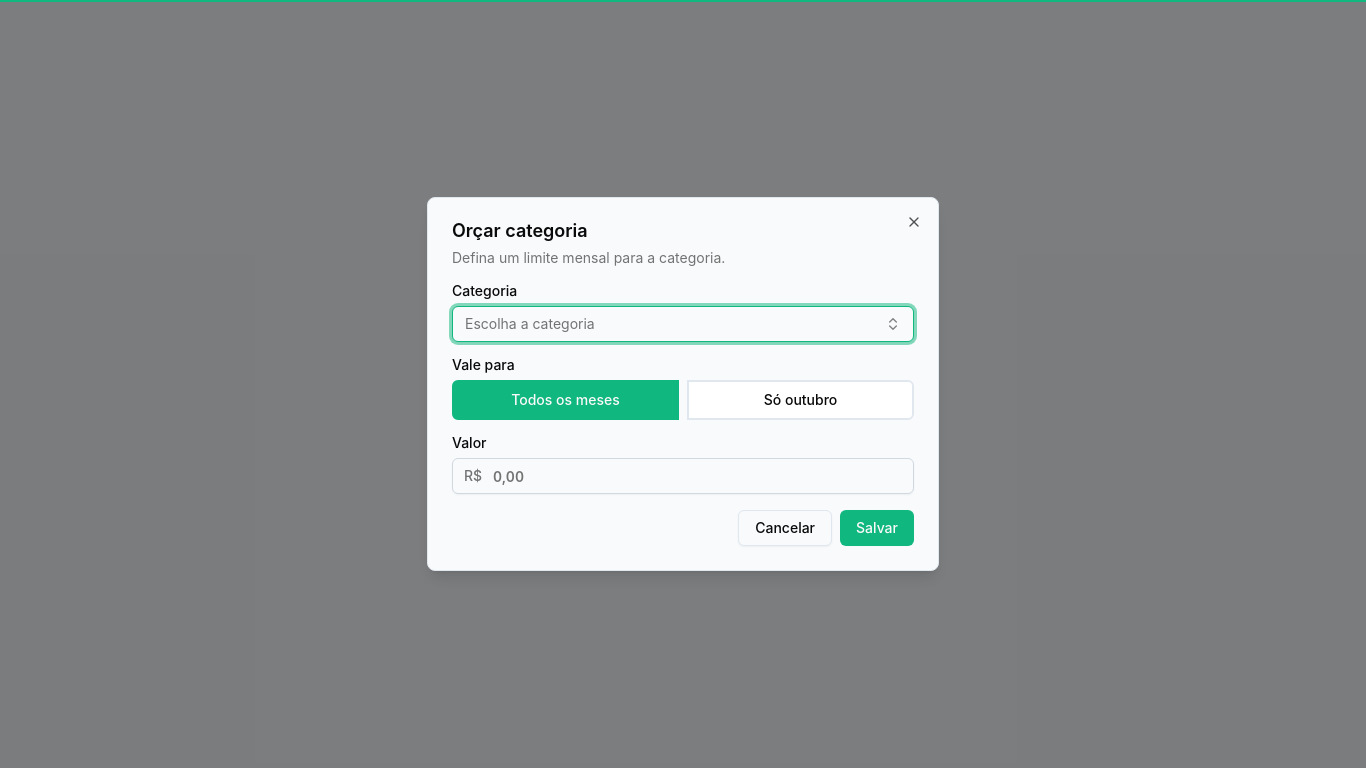
BudgetFormDialog › exige a categoria ao orçar uma categoria nova
Click the button "Salvar": x=877, y=528 [840,510,914,546]
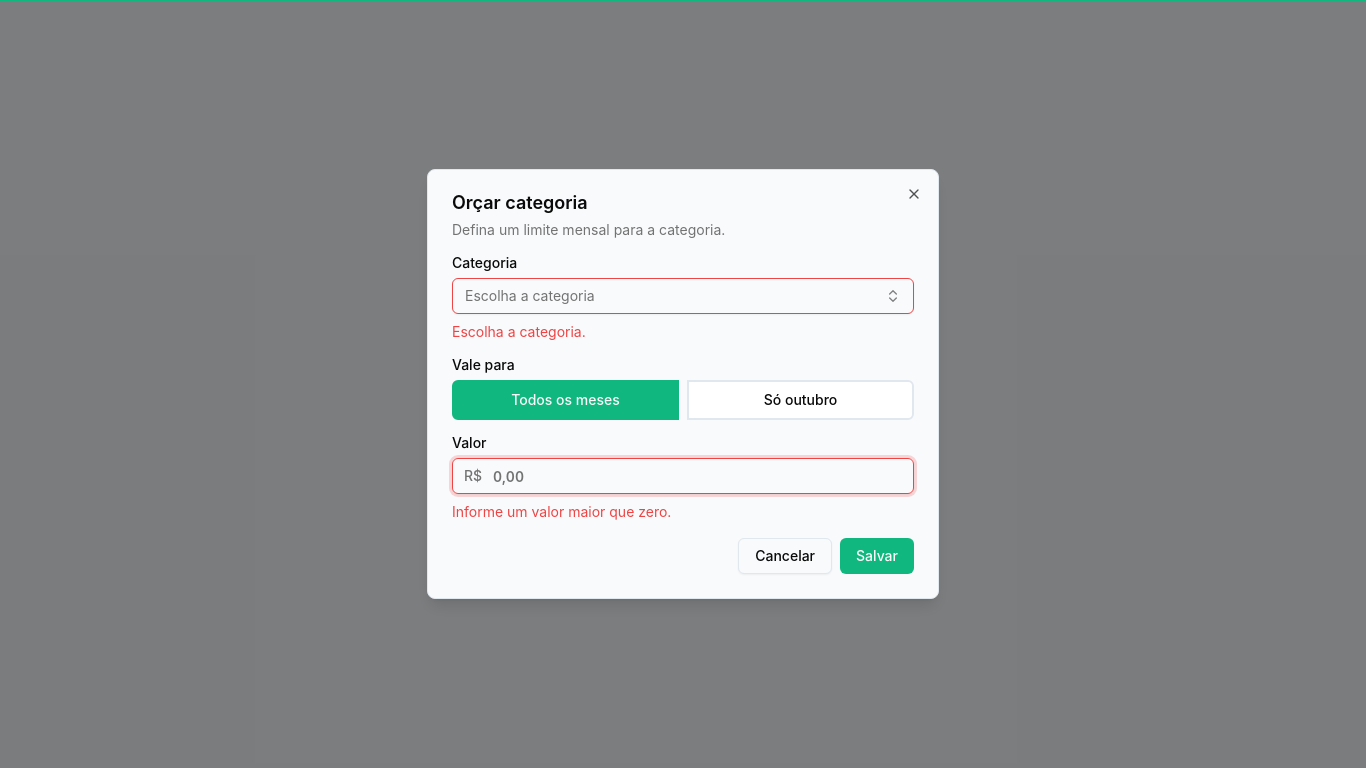
Result: the text "Escolha a categoria." is shown at [452,323,586,340]
